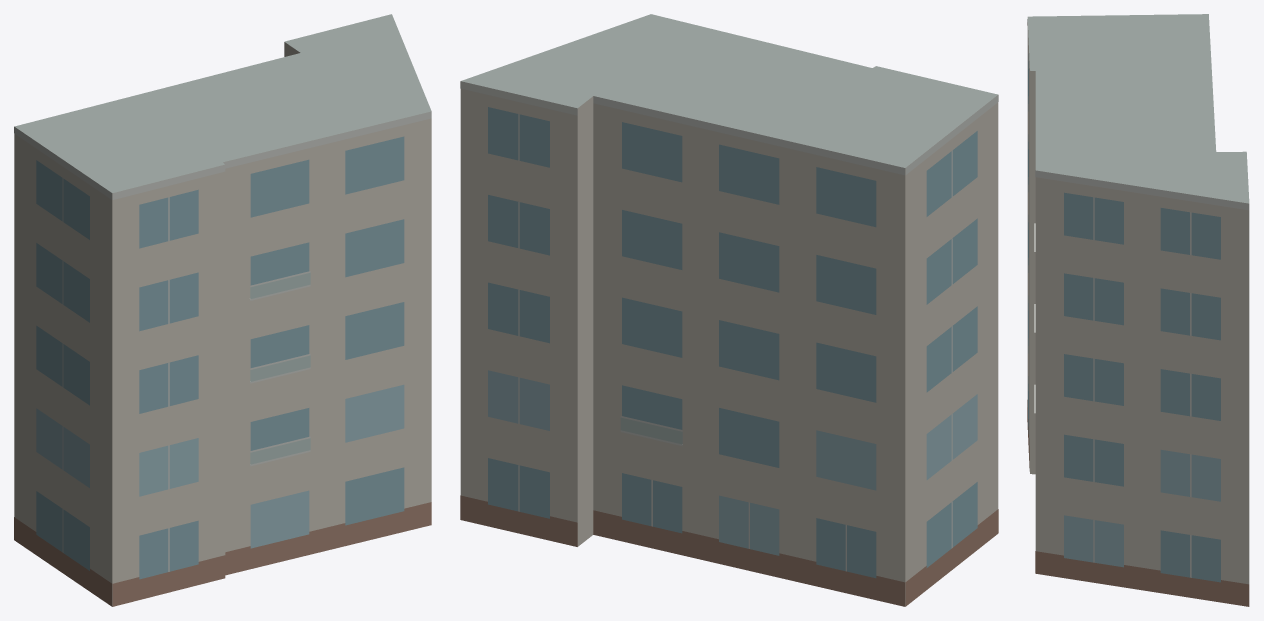
Rendered from survey-upis-33038539.glb.
3 renders of one model, left to right at view 1: azimuth 30°, elevation 25°; view 2: azimuth 150°, elevation 25°; view 3: azimuth 270°, elevation 25°, orthographic. The views are drawn at different scales.
Visible parts, largest first — view 1: survey-upis-33038539.tmp; view 2: survey-upis-33038539.tmp; view 3: survey-upis-33038539.tmp.
Part boxes in pixels (bbox=[...]): survey-upis-33038539.tmp: bbox=[14, 14, 431, 606]; survey-upis-33038539.tmp: bbox=[460, 14, 998, 606]; survey-upis-33038539.tmp: bbox=[1027, 14, 1249, 606].
Bounding box in the file's own units: 14.6 × 14.47 × 7.23.
